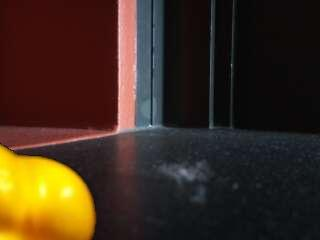Capsicum: (0, 136, 98, 240)
